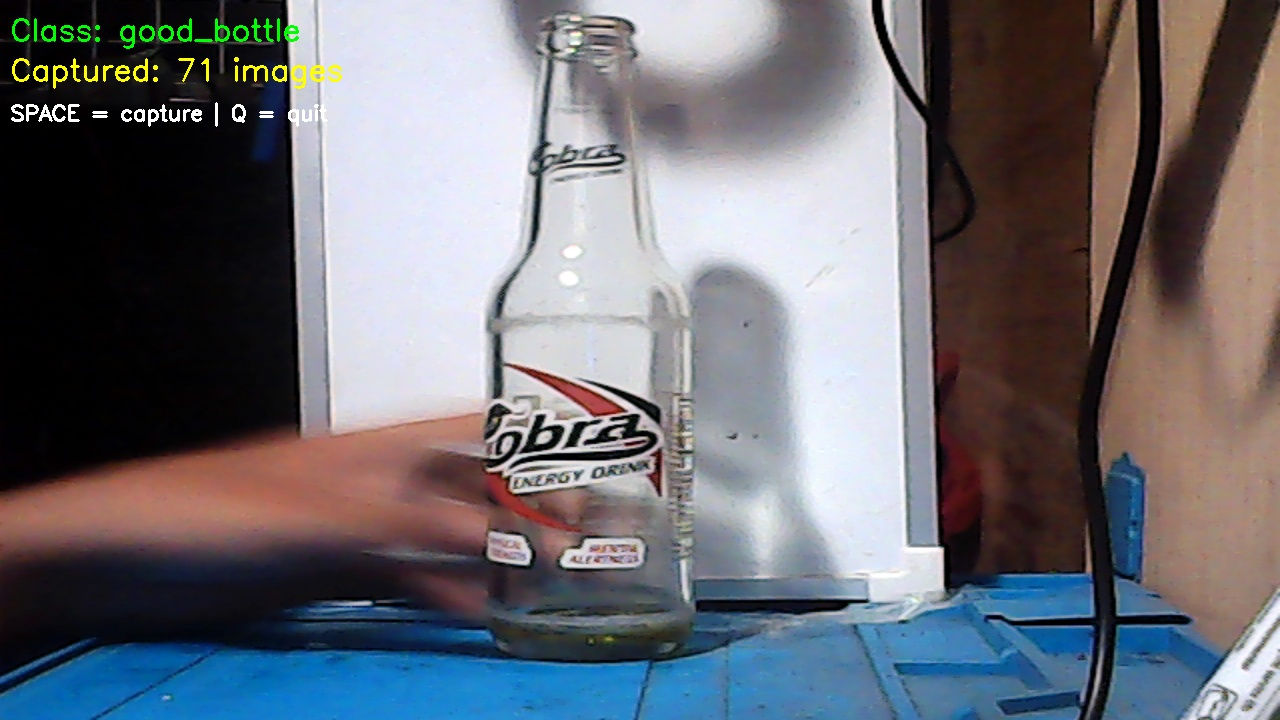good_bottle: (476, 19, 706, 665)
